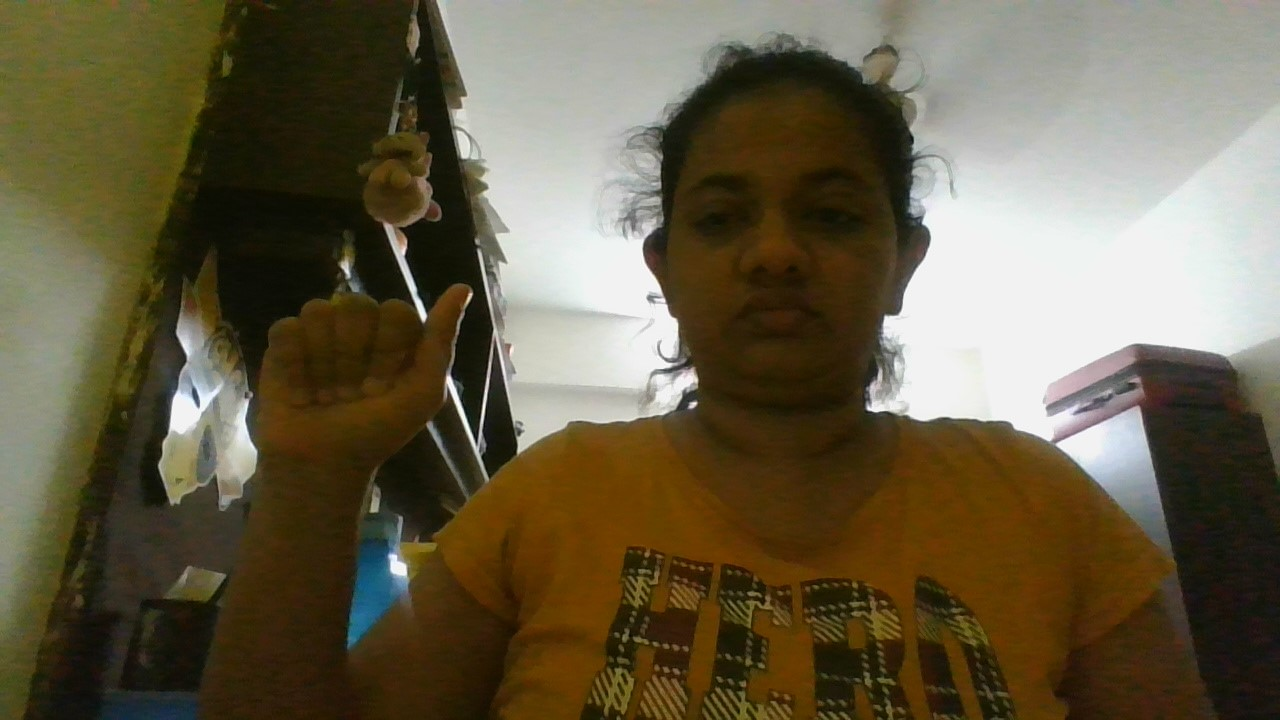a: (241, 265, 482, 505)
